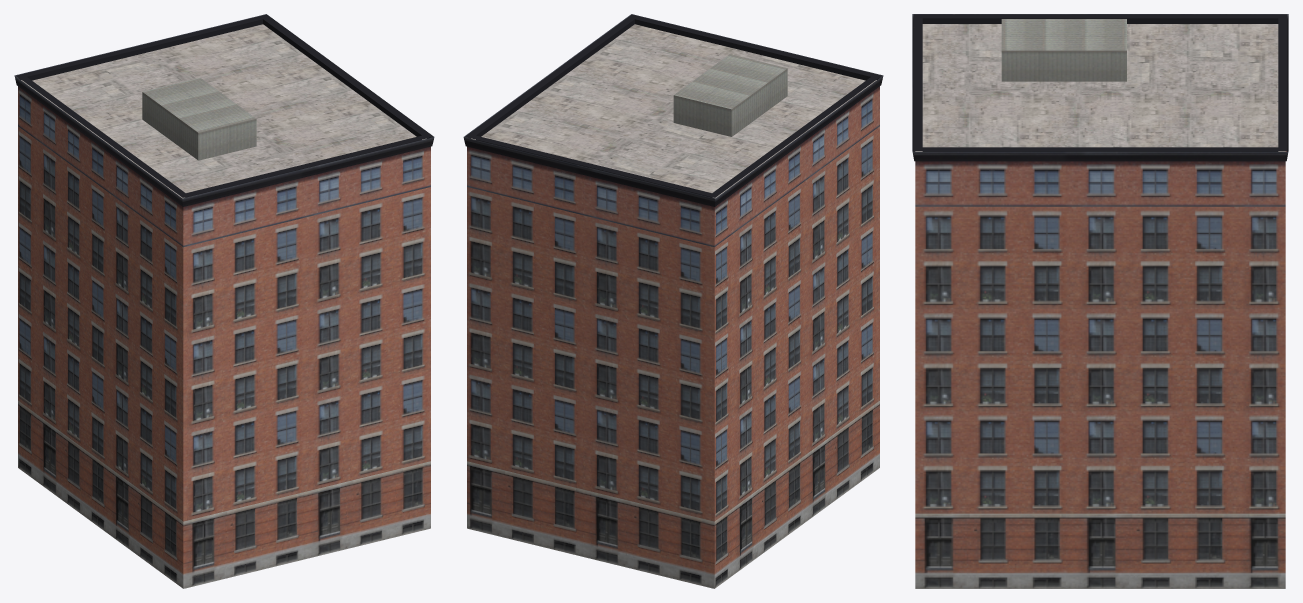
Rendered from building_22.obj.
3 views of the same model, side by side, from view 1: azimuth 30°, elevation 25°; view 2: azimuth 150°, elevation 25°; view 3: azimuth 270°, elevation 25° (orthographic). The views are drawn at different scales.
Visible parts, largest first — view 1: BakedBuilding_319; view 2: BakedBuilding_319; view 3: BakedBuilding_319.
Part boxes in pixels (bbox=[...]): BakedBuilding_319: bbox=[14, 14, 434, 588]; BakedBuilding_319: bbox=[463, 14, 883, 588]; BakedBuilding_319: bbox=[912, 14, 1288, 588].
Bounding box in the file's own units: 59.05 × 92.87 × 68.2.
